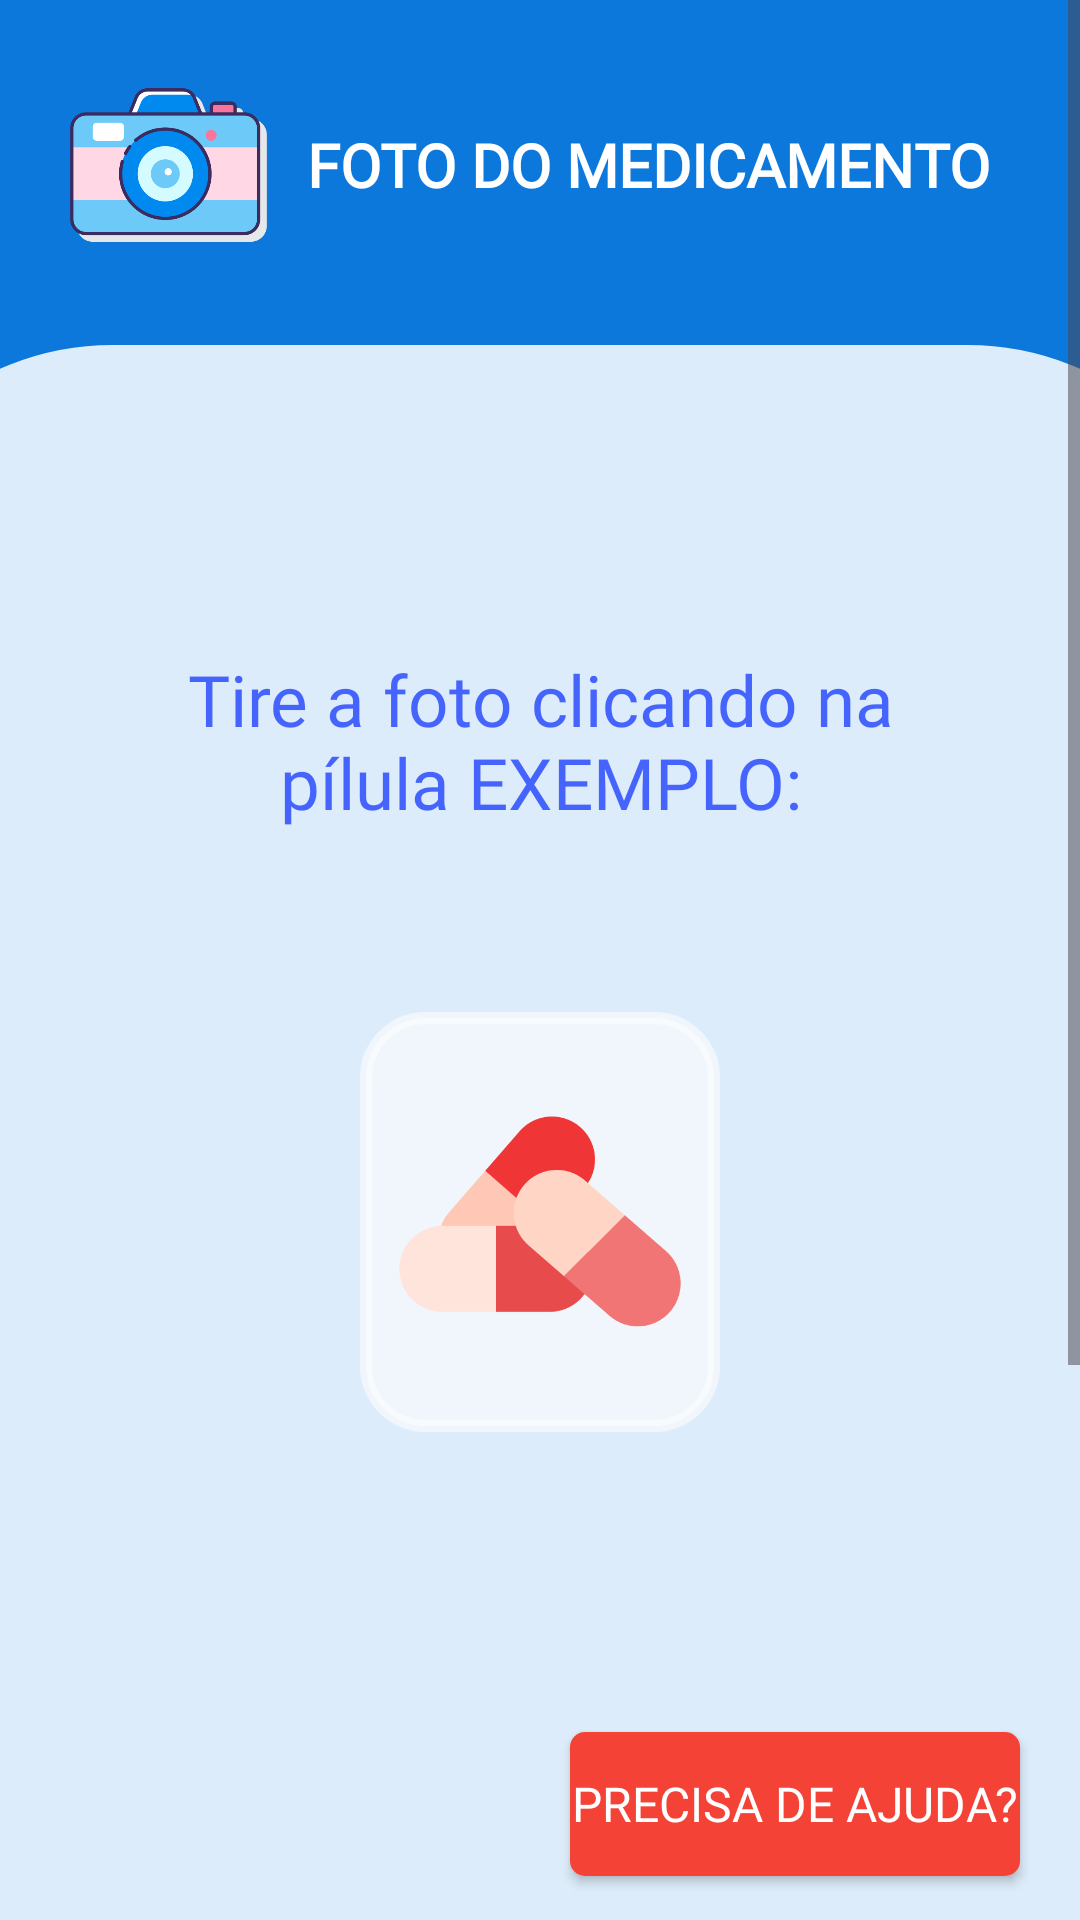

Icons on this 1080x1920 Android screen, each with the point to tap as (x,y):
camera fotografica: (168,165)
pill type: (540,1221)
